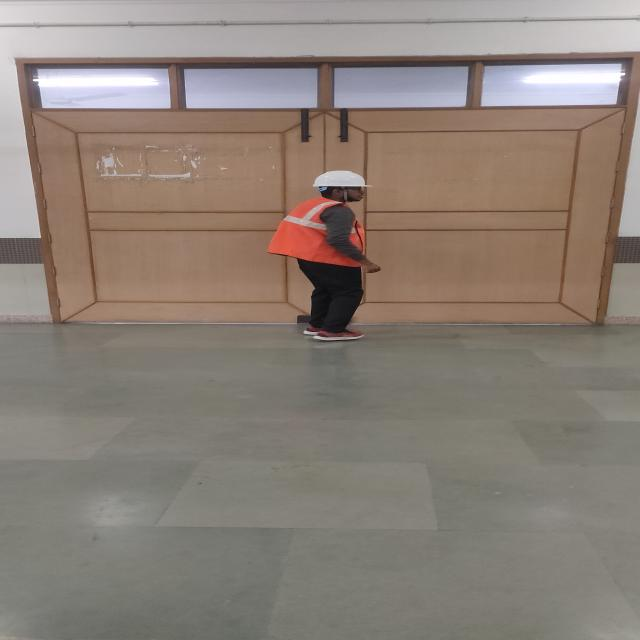safe: (269, 171, 382, 340)
